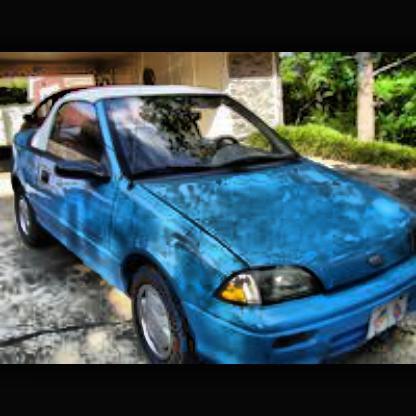Geo Metro Convertible 1993: (12, 86, 416, 364)
